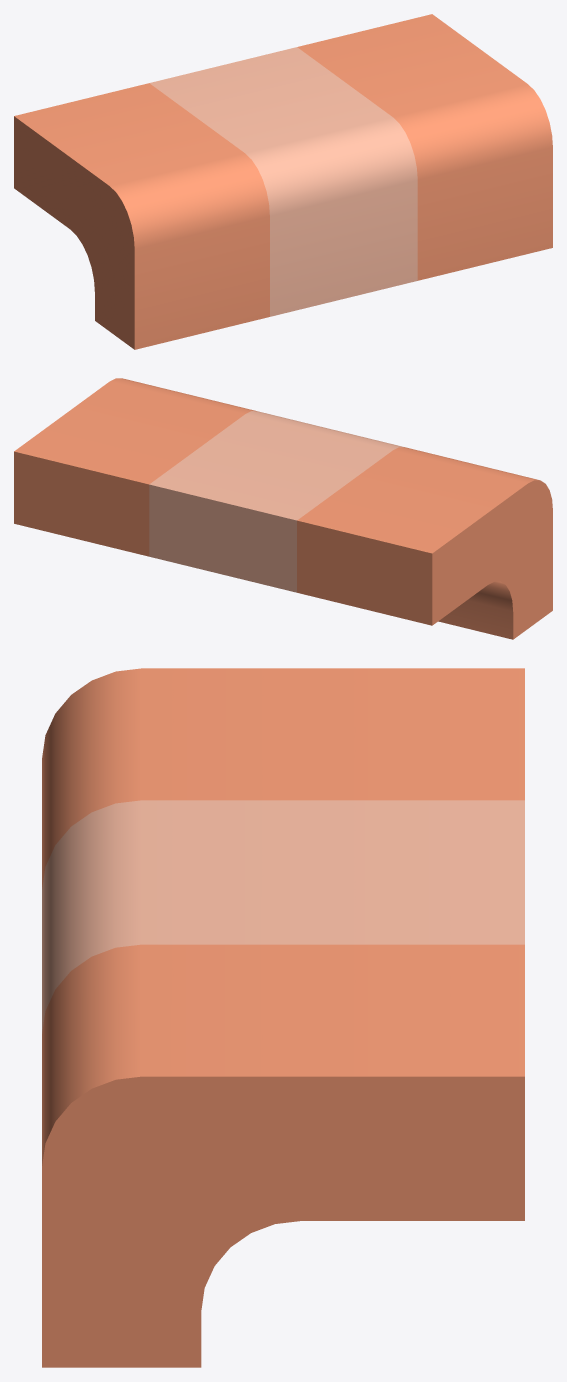
Rendered from Link D L Type.fbx.
The picture shows the model from 3 angles, top to bottom: view 1: azimuth 30°, elevation 25°; view 2: azimuth 150°, elevation 25°; view 3: azimuth 270°, elevation 25°; orthographic projection. The views are drawn at different scales.
Parts seen in each view (by area): view 1: Link D L Type; view 2: Link D L Type; view 3: Link D L Type.
Boxes of the visible parts, x1,y1,x2,y2 form: Link D L Type: [14, 14, 552, 349]; Link D L Type: [14, 378, 552, 639]; Link D L Type: [42, 668, 524, 1367].
Size of the model in its own units: 300 by 99.69 by 150.
